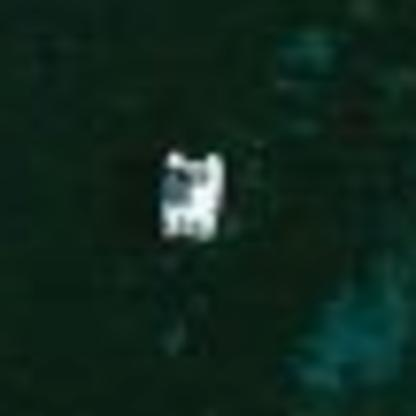ship: (149, 138, 230, 245)
